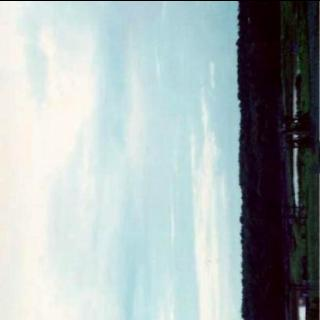Stratocumulus: (0, 0, 244, 320)
